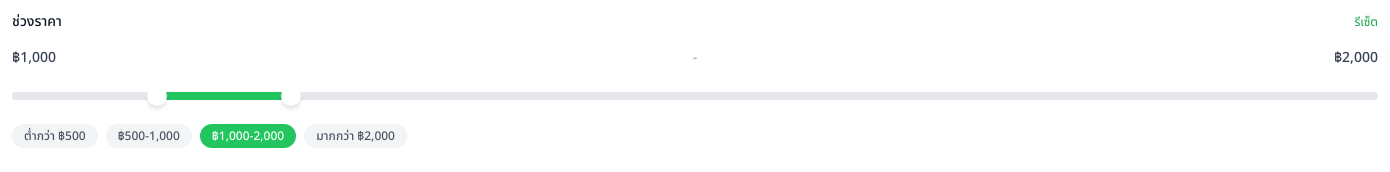
Scenario: PriceFilter Component › max slider cannot go below min slider
Note: Try to set max lower than min
Set the slider named "ราคาสูงสุด" to "500" at point(88, 96), box [12,84,1378,108]
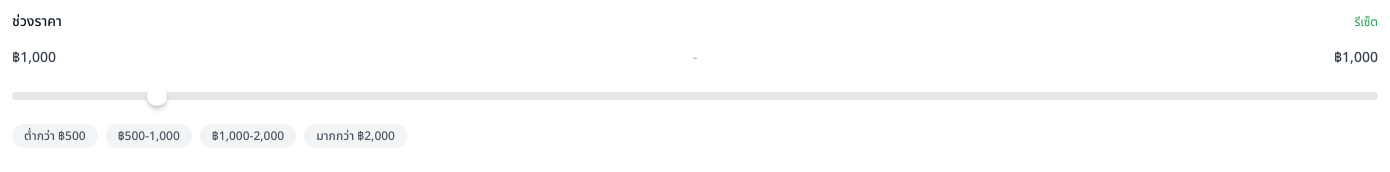
Check: the 1st text "฿1,000" is shown, box [12,48,56,68]
Check: the slider named "ราคาสูงสุด" holds "1000", box [12,84,1378,108]
